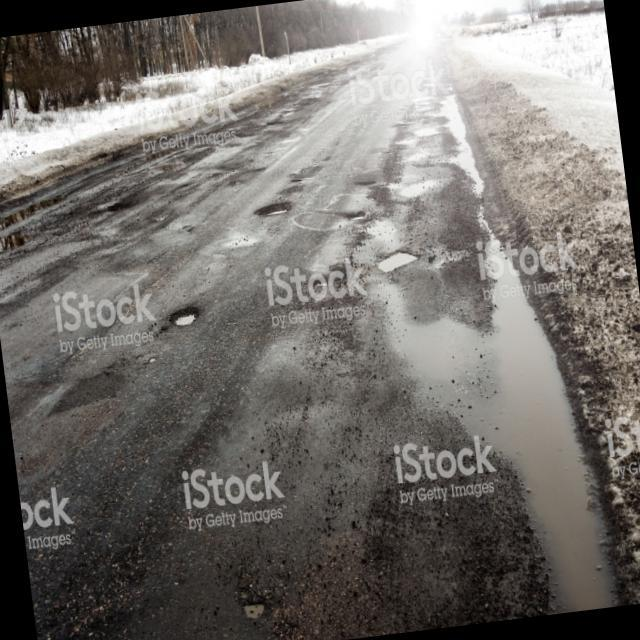Pothole: (356, 14, 640, 629), (367, 236, 435, 281), (230, 570, 269, 614), (253, 194, 290, 220), (170, 299, 200, 321)
